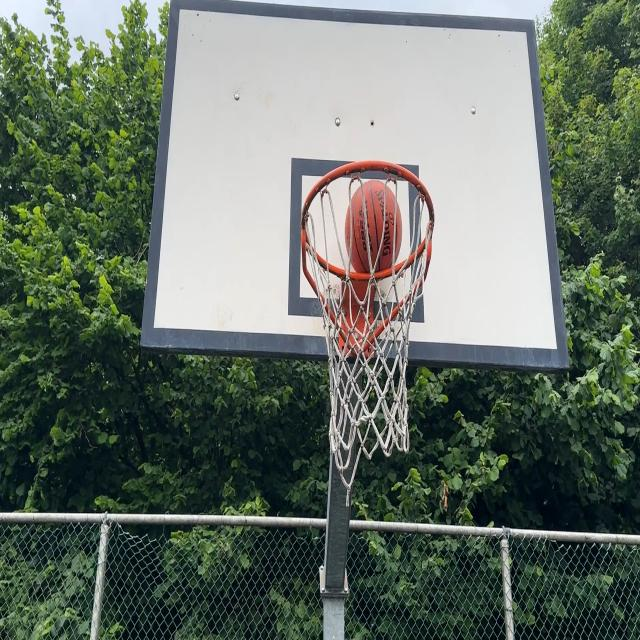rebound_hit: (344, 180, 403, 278)
